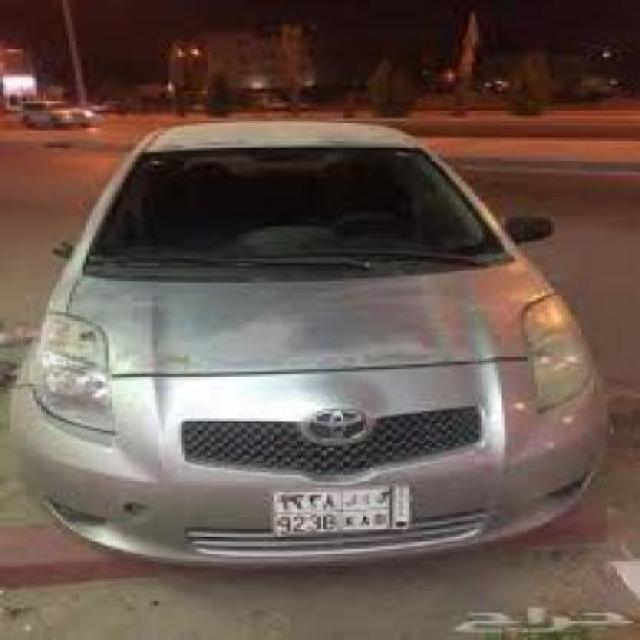license_plate: (266, 480, 419, 537)
